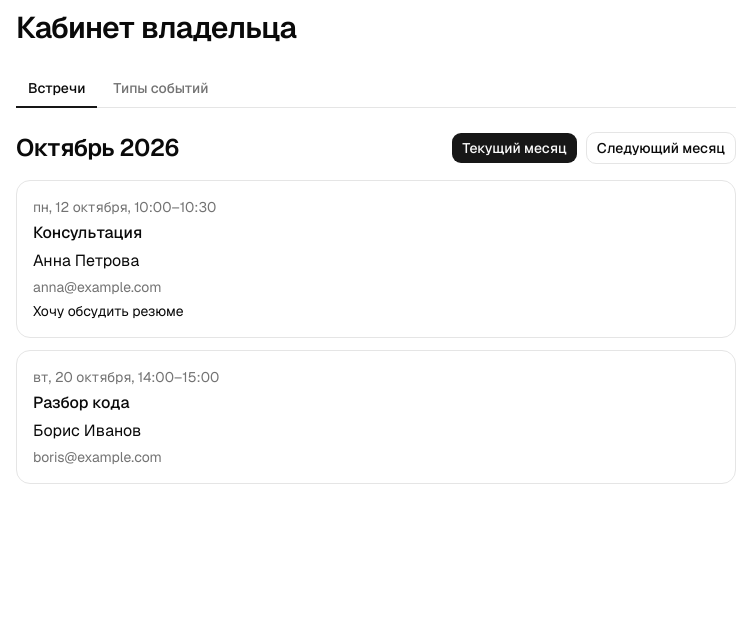
Test case: вкладка «Типы событий» › показывает пустое состояние
Click the tab "Типы событий" at (161, 89), box [101, 70, 220, 108]
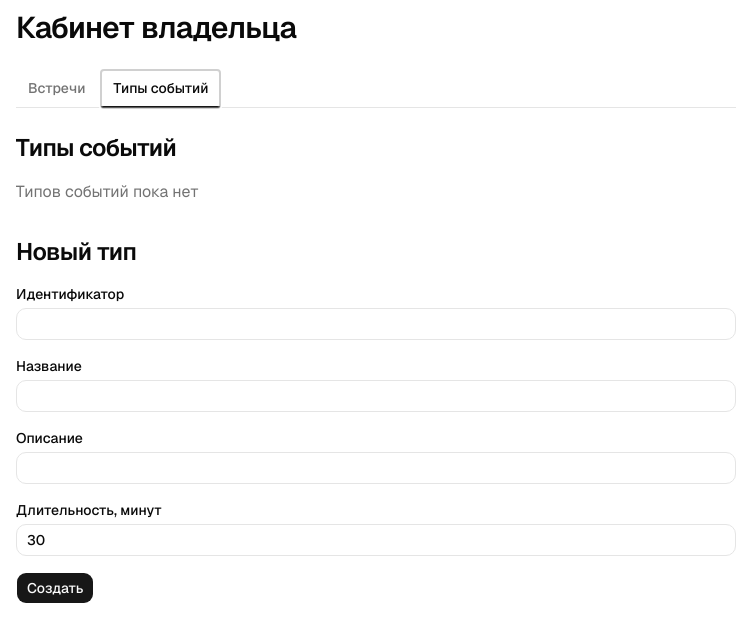
expect the text "Типов событий пока нет" is shown: met, box [16, 181, 199, 202]
